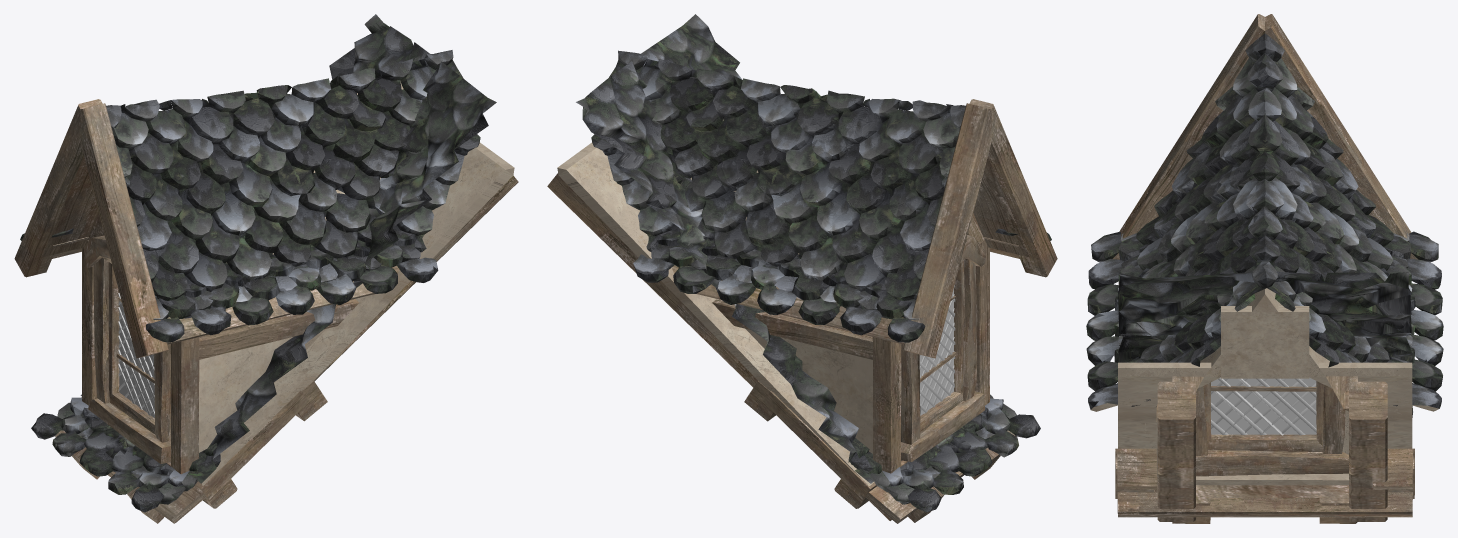
File: SM_Roof_B_04.fbx
The picture shows the model from 3 angles, left to right: view 1: azimuth 30°, elevation 25°; view 2: azimuth 150°, elevation 25°; view 3: azimuth 270°, elevation 25°; orthographic projection. The views are drawn at different scales.
Visible parts, largest first — view 1: SM_Roof_B_04_LOD0; view 2: SM_Roof_B_04_LOD0; view 3: SM_Roof_B_04_LOD0.
Boxes of the visible parts, x1,y1,x2,y2 form: SM_Roof_B_04_LOD0: (14, 14, 518, 523); SM_Roof_B_04_LOD0: (547, 14, 1057, 523); SM_Roof_B_04_LOD0: (1086, 14, 1443, 523).
Bounding box in the file's own units: 378 × 243 × 365.
